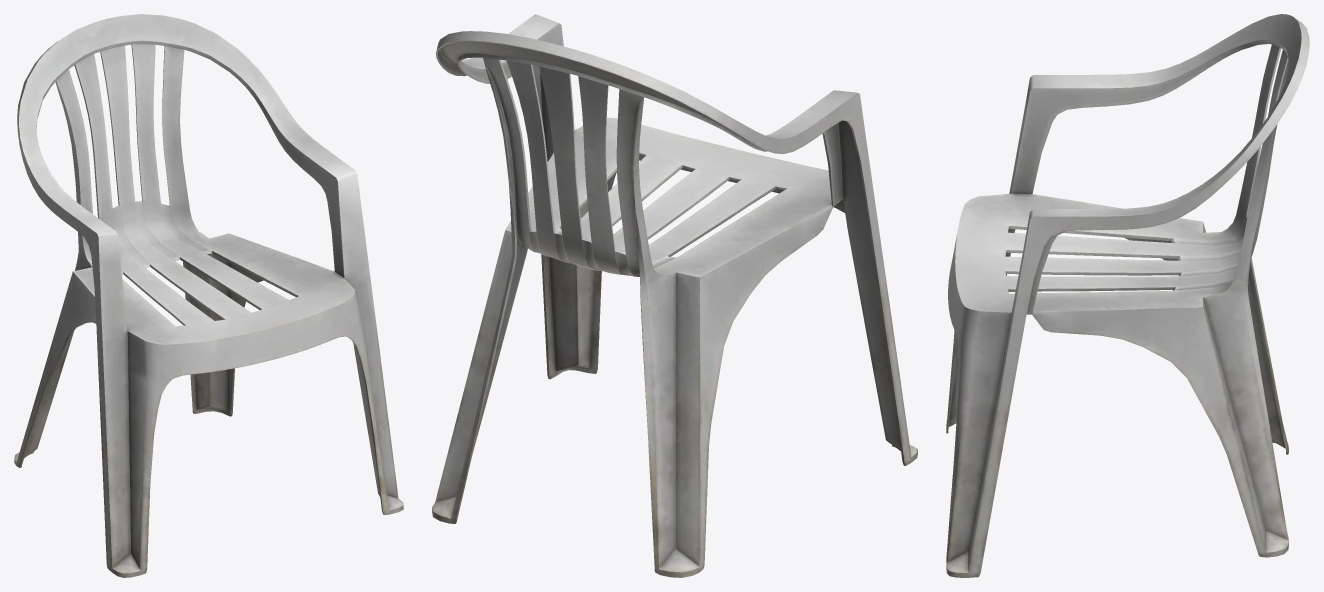
File: plastic_monobloc_chair_01.glb
The picture shows the model from 3 angles, left to right: view 1: azimuth 30°, elevation 25°; view 2: azimuth 150°, elevation 25°; view 3: azimuth 270°, elevation 25°; orthographic projection. The views are drawn at different scales.
Visible parts, largest first — view 1: plastic_monobloc_chair_01; view 2: plastic_monobloc_chair_01; view 3: plastic_monobloc_chair_01.
Boxes of the visible parts, left/top/right/bottom form: plastic_monobloc_chair_01: left=14, top=14, right=403, bottom=577; plastic_monobloc_chair_01: left=432, top=14, right=917, bottom=577; plastic_monobloc_chair_01: left=946, top=14, right=1309, bottom=577.
Bounding box in the file's own units: 0.6418 × 0.8798 × 0.6276.
Materials: 1 (1 with a texture image).
